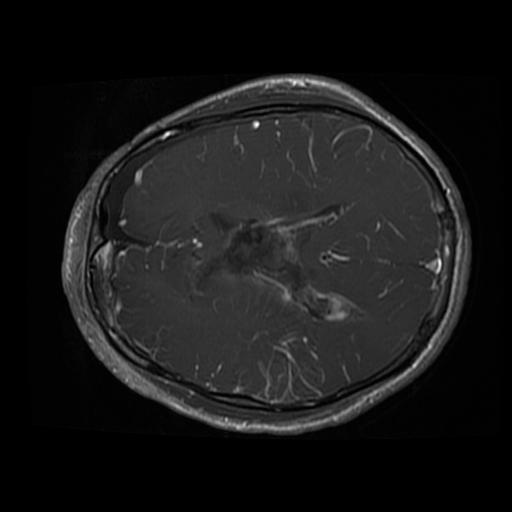glioma: (186, 196, 308, 308)
